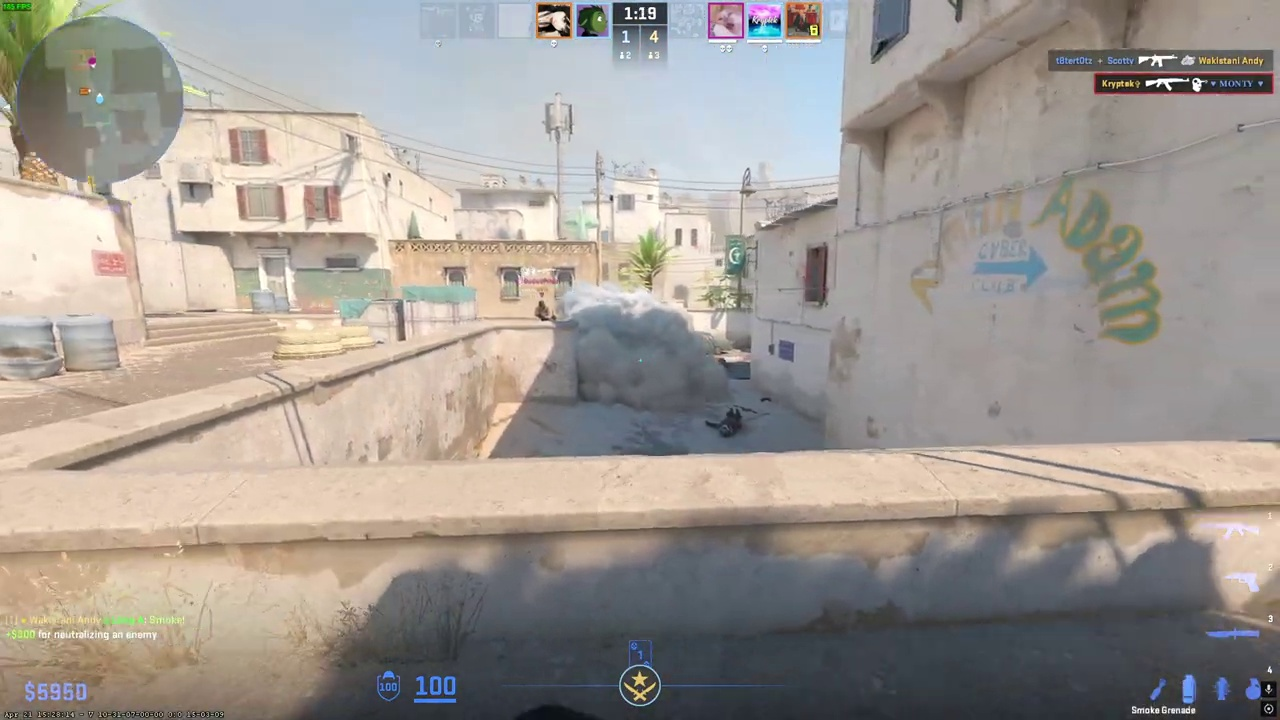CT: (534, 298, 551, 321)
